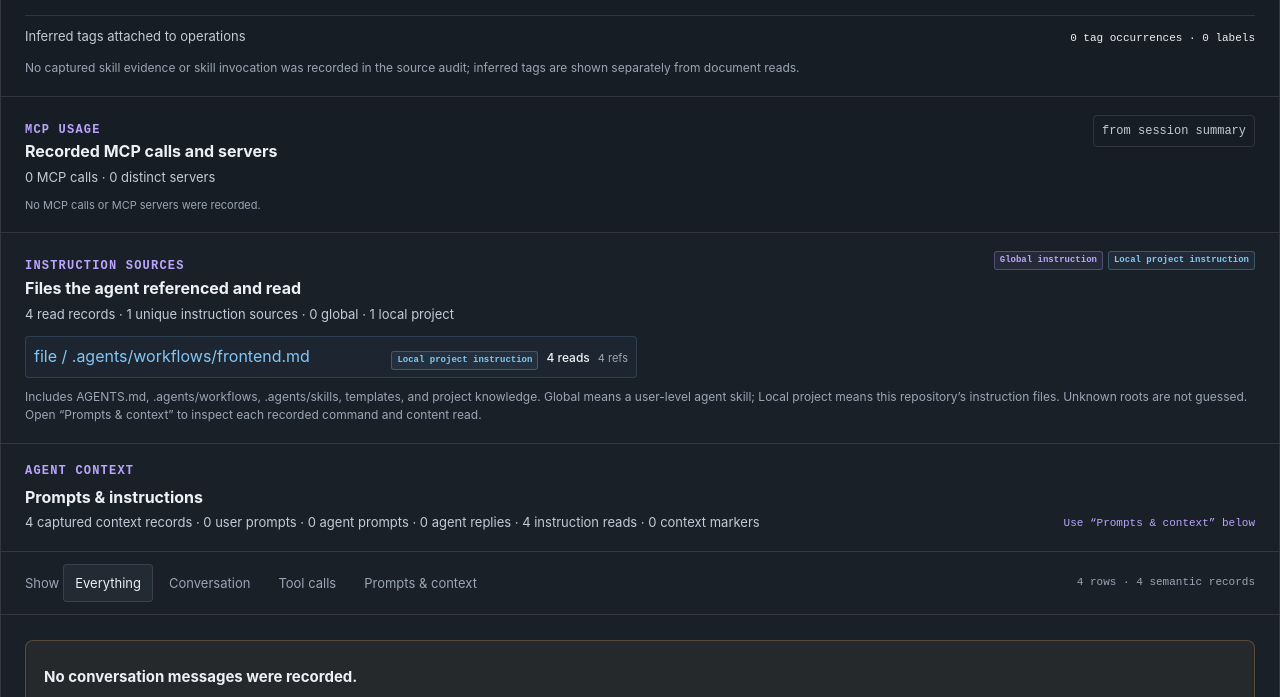
Test case: TraceView API conversation › keeps four matching evidence events highlighted and navigates the active match
The image size is (1280, 697).
(page scrolled)
Step 1. Click the button named "Locate captured instruction source .agents/workflows/frontend.md in the trace" → (53, 356), box x1=25 y1=336 x2=637 y2=378
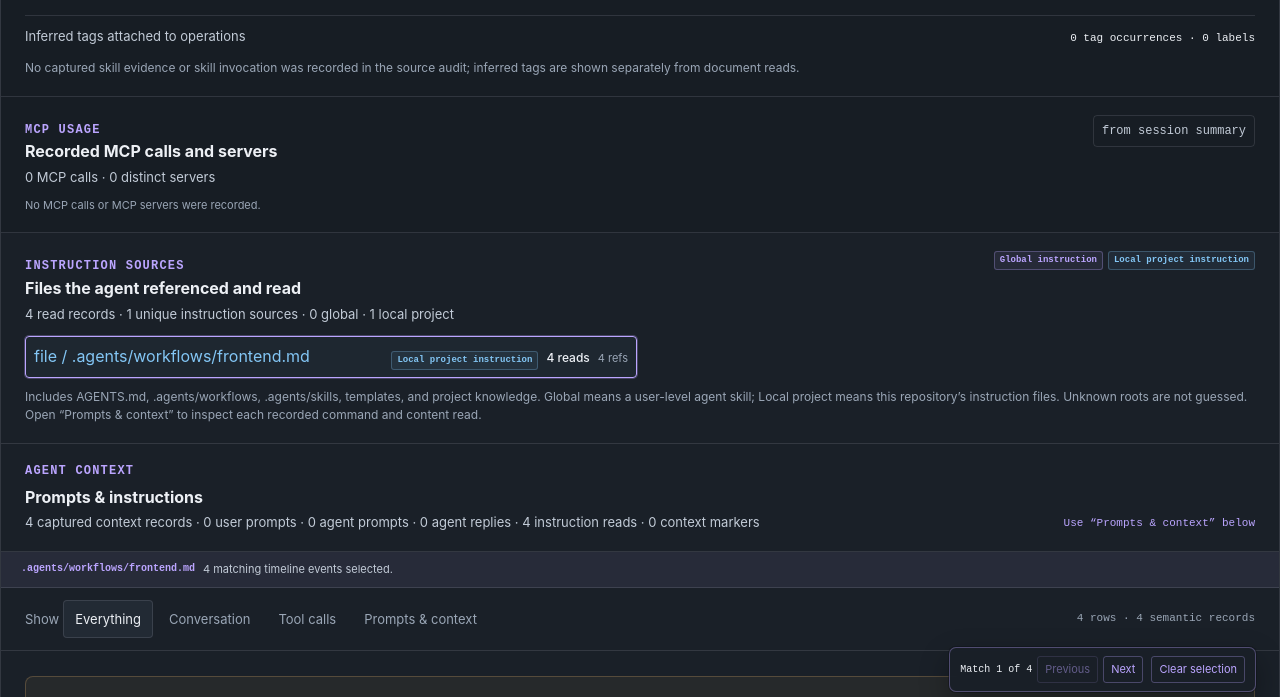
Check: the text "Match 1 of 4" is shown, box x1=960 y1=662 x2=1032 y2=677
Check: the element with class "evidence-match-dock" is shown, box x1=949 y1=647 x2=1256 y2=692
Check: the button with aria-label "Previous matching event" is disabled, box x1=1037 y1=656 x2=1098 y2=683
Step 2. Click the button with aria-label "Next matching event" → (1123, 670), box x1=1103 y1=656 x2=1143 y2=683
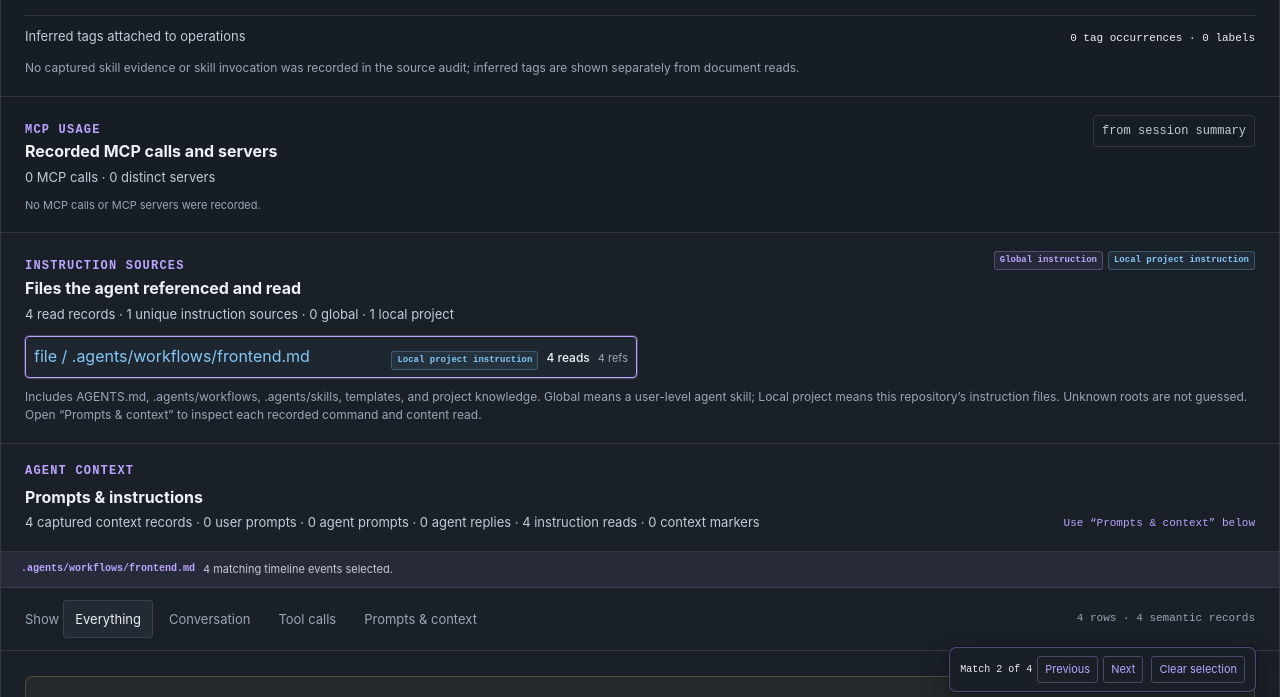
Check: the text "Match 2 of 4" is shown, box x1=960 y1=662 x2=1032 y2=677
Step 3. Click the button with aria-label "Next matching event" → (1123, 670), box x1=1103 y1=656 x2=1143 y2=683
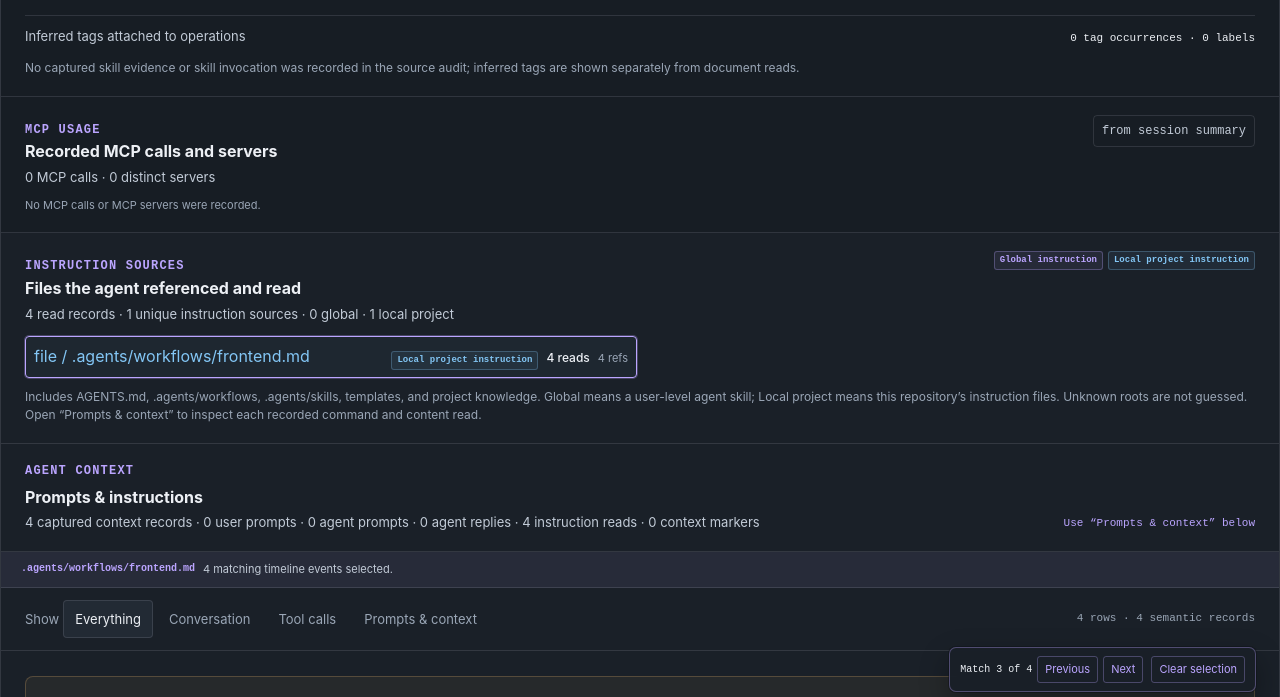
Step 4. Click the button with aria-label "Next matching event" → (1123, 670), box x1=1103 y1=656 x2=1143 y2=683
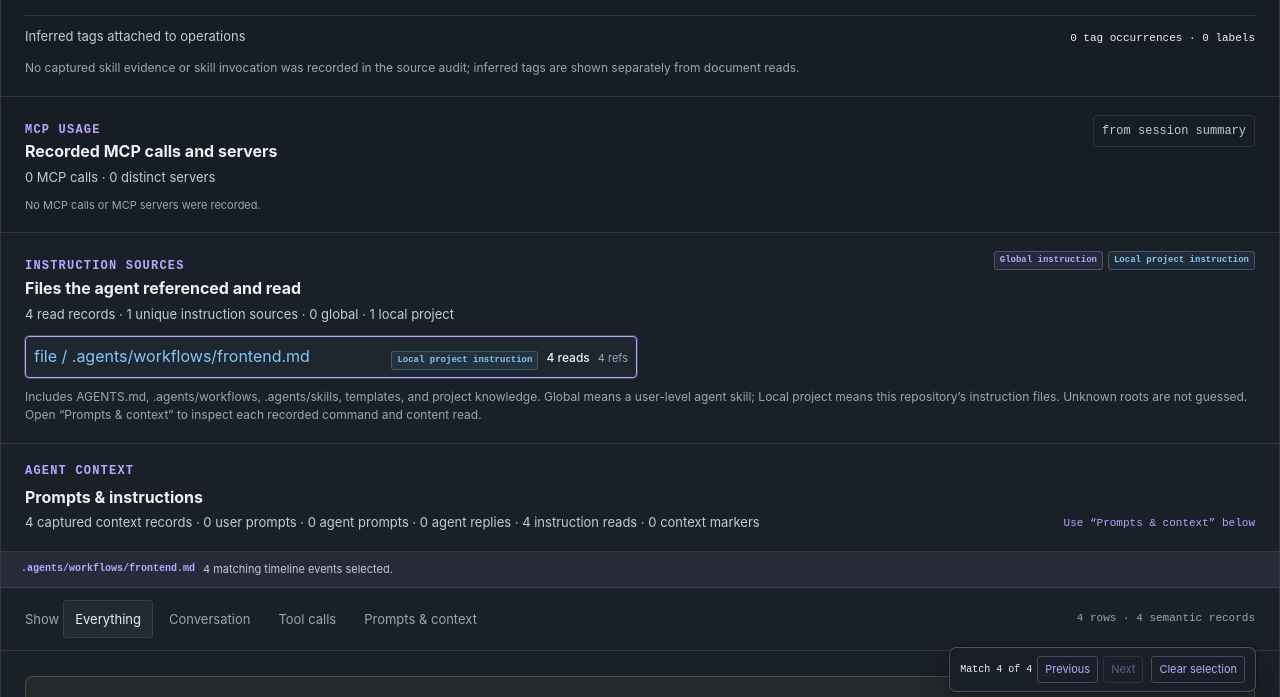
Check: the button with aria-label "Previous matching event" is enabled
Check: the text "Match 4 of 4" is shown, box x1=960 y1=662 x2=1032 y2=677
Check: the button with aria-label "Next matching event" is disabled, box x1=1103 y1=656 x2=1143 y2=683
Step 5. Click the button with aria-label "Previous matching event" → (1068, 670), box x1=1037 y1=656 x2=1098 y2=683
(page scrolled)
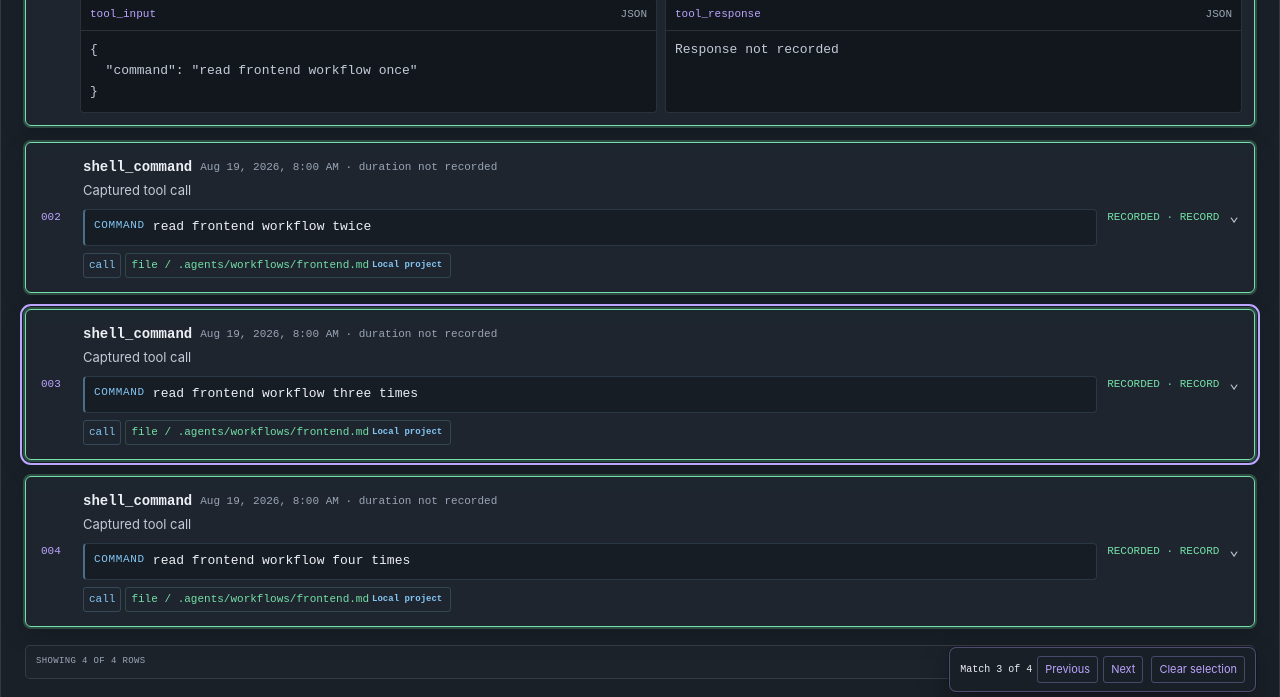
Check: the text "Match 3 of 4" is shown, box x1=960 y1=662 x2=1032 y2=677
